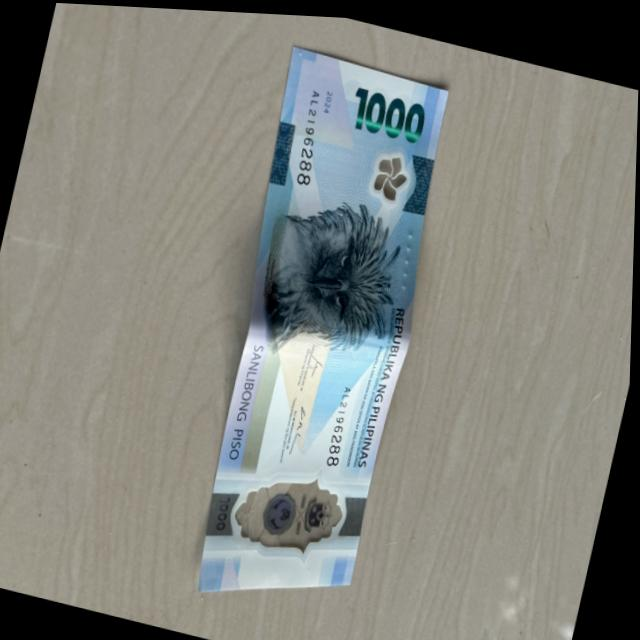clear_window: (229, 456, 353, 570)
eagle: (263, 195, 406, 369)
sampaguita: (368, 146, 411, 197)
